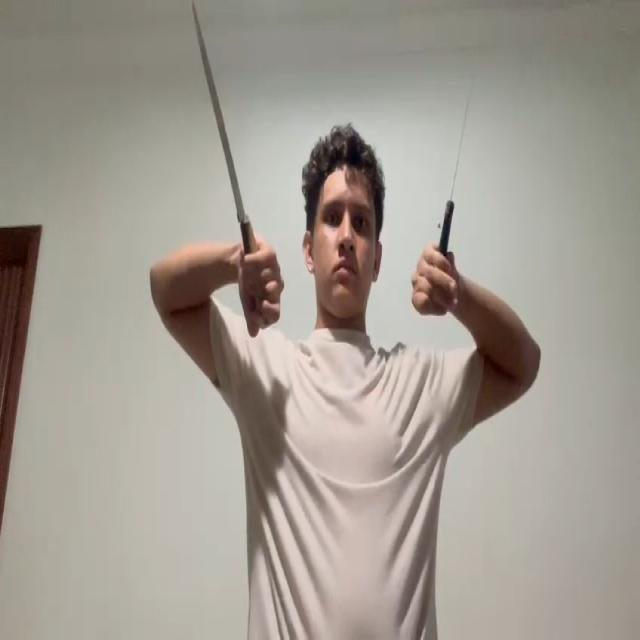knife: (192, 3, 242, 215)
